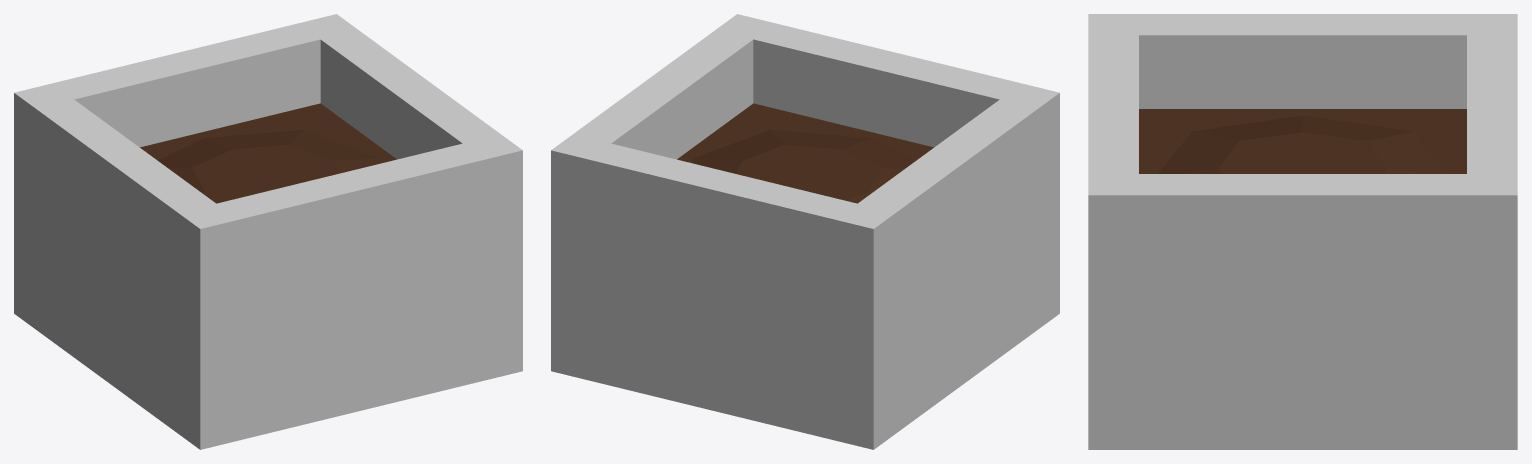
The model's file is Flower_Pot_Square.fbx.
3 renders of one model, left to right at view 1: azimuth 30°, elevation 25°; view 2: azimuth 150°, elevation 25°; view 3: azimuth 270°, elevation 25°, orthographic. The views are drawn at different scales.
Visible parts, largest first — view 1: Cube; view 2: Cube; view 3: Cube.
Boxes of the visible parts, x1=… form: Cube: x1=14, y1=14, x2=522, y2=449; Cube: x1=551, y1=14, x2=1059, y2=449; Cube: x1=1088, y1=14, x2=1517, y2=449.
Bounding box in the file's own units: 73.72 × 48.22 × 73.72.
